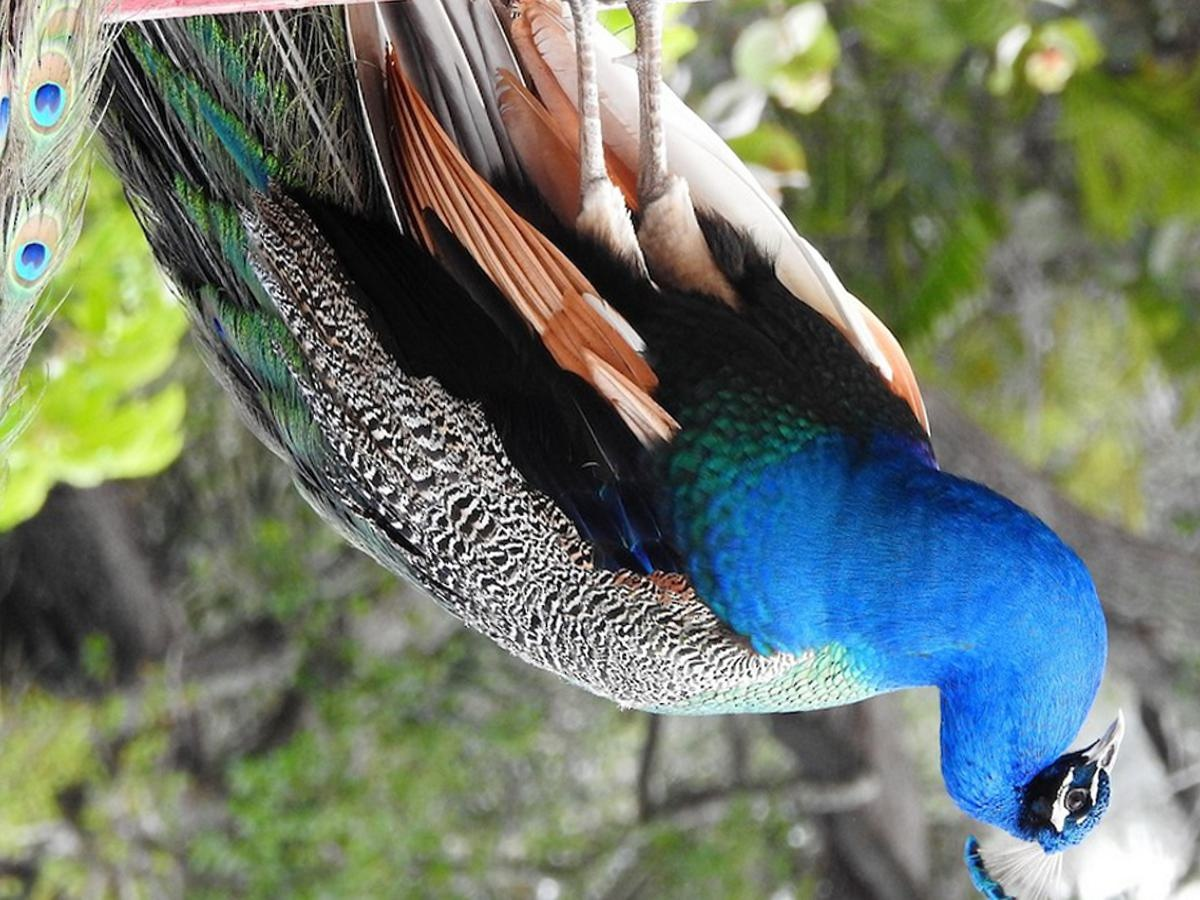peacock: (245, 31, 1128, 880)
